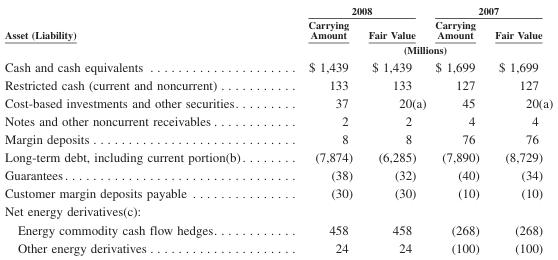table: (3, 4, 552, 254)
table column: (3, 4, 276, 254), (276, 4, 359, 254), (359, 4, 429, 254), (486, 4, 552, 254), (429, 4, 486, 254)
table column header: (3, 4, 552, 57)
table projected row header: (3, 202, 552, 220)
table row: (3, 17, 552, 41), (3, 183, 552, 202), (3, 57, 552, 75), (3, 75, 552, 93), (3, 93, 552, 111), (3, 111, 552, 129), (3, 129, 552, 147), (3, 147, 552, 165), (3, 165, 552, 183), (3, 202, 552, 220), (3, 220, 552, 238), (3, 41, 552, 57), (3, 238, 552, 254), (3, 4, 552, 17)
table spanning cell: (3, 4, 276, 57), (276, 41, 552, 57), (276, 4, 429, 17), (429, 4, 552, 17)
